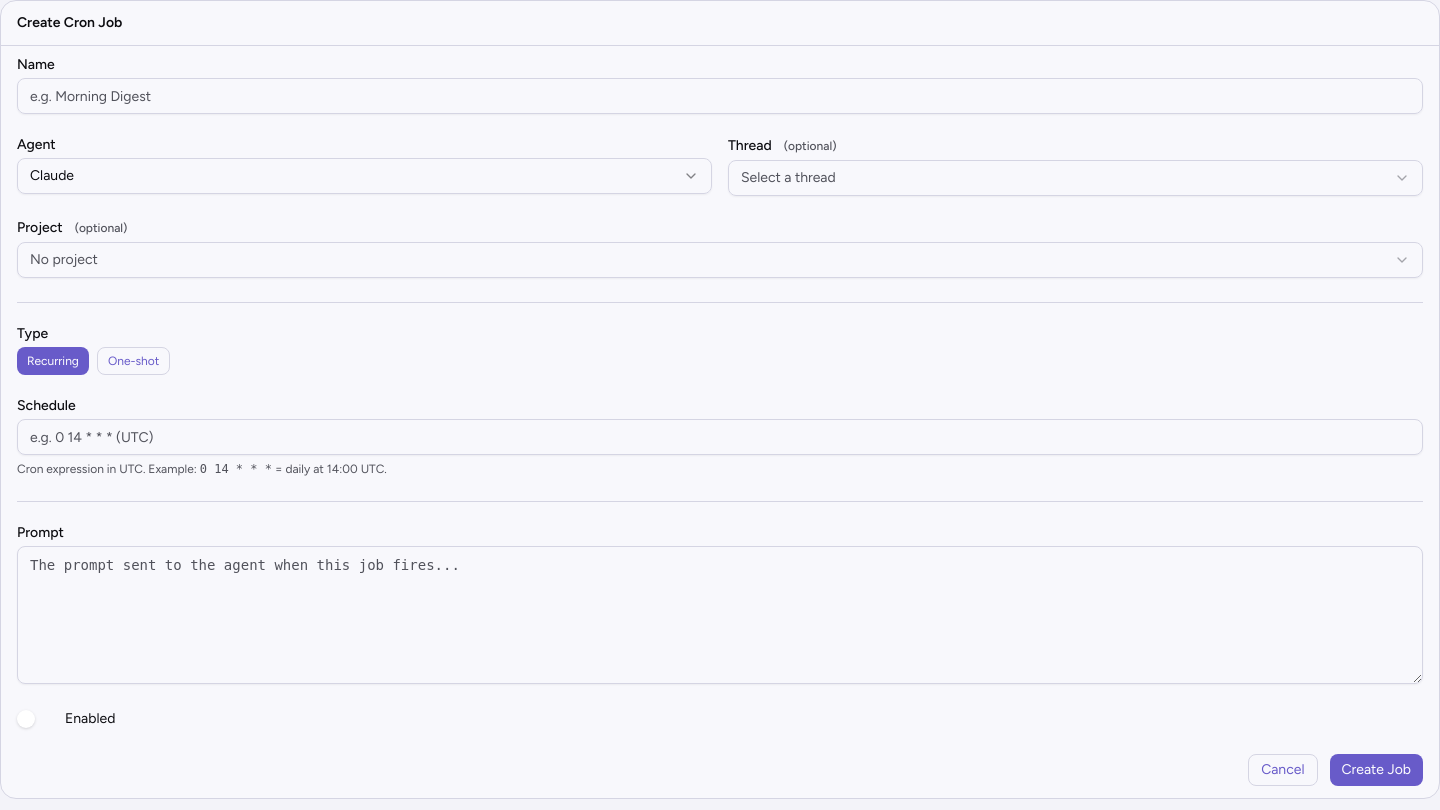
Test case: CronJobForm › shows error when createCronJob returns error
Type "Dup" into the field labelled "Name".
click(720, 96); type("Dup")  # box [17, 78, 1423, 114]
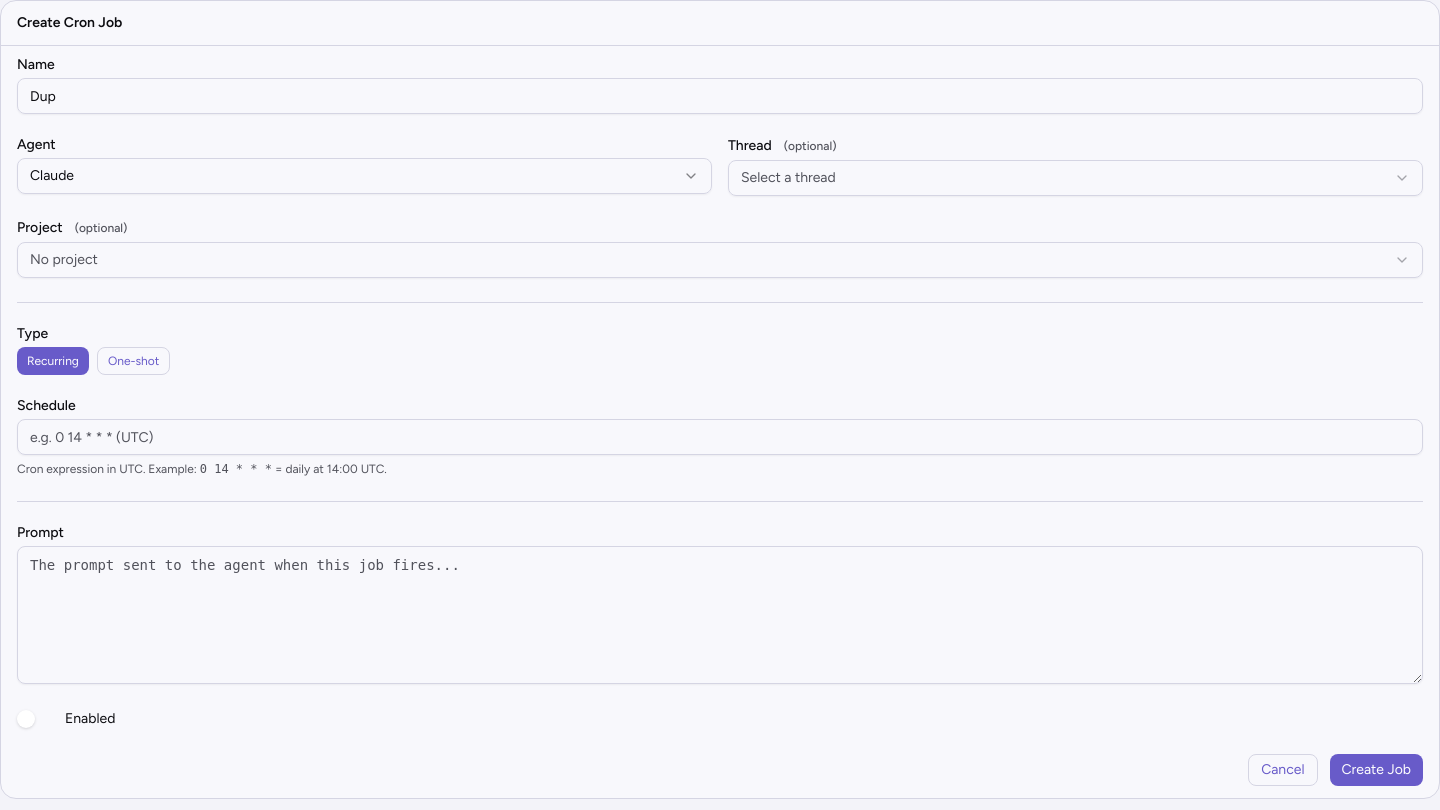
Type "0 9 * * *" into the field labelled "Schedule".
click(720, 437); type("0 9 * * *")  # box [17, 419, 1423, 455]
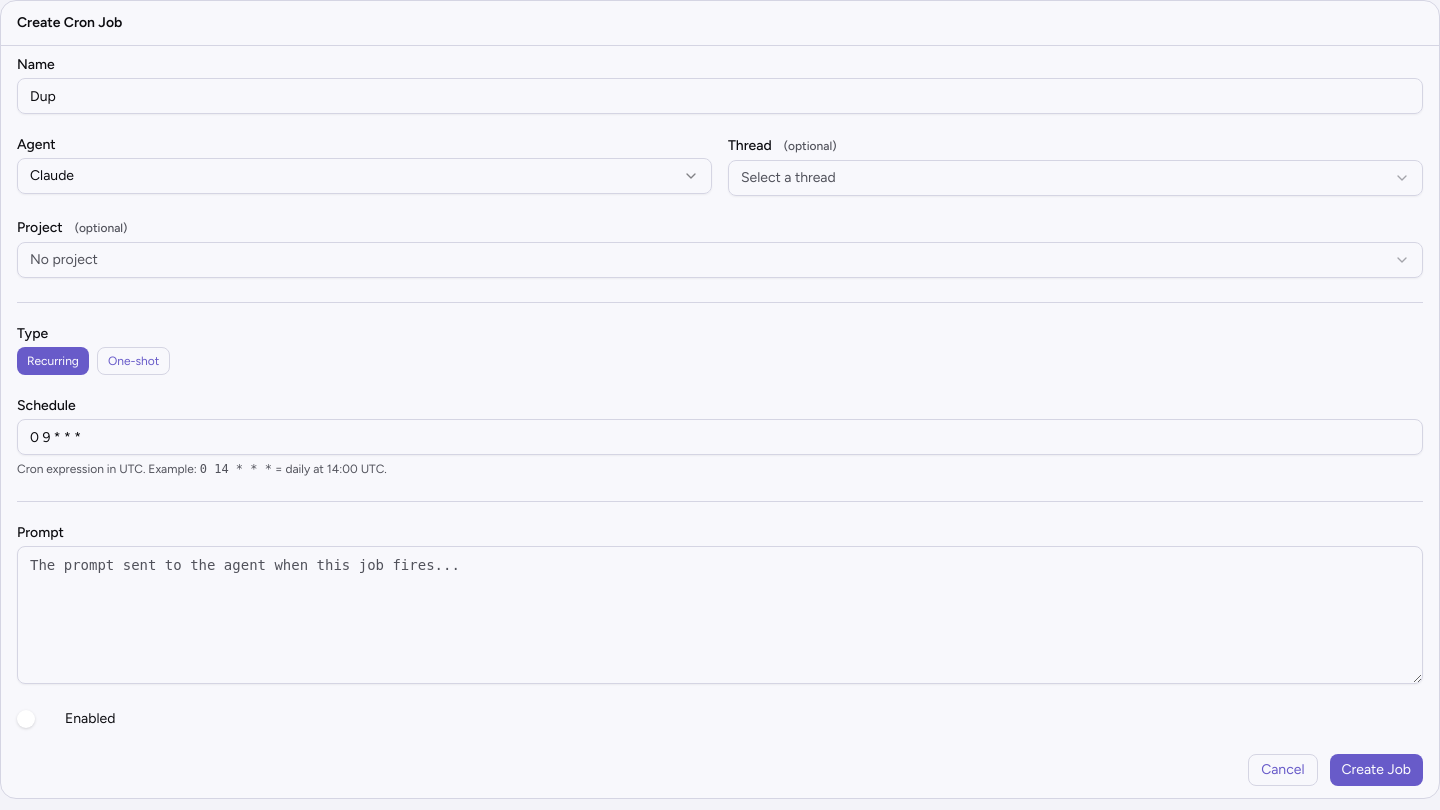
Type "x" into the text box labelled "Prompt".
click(720, 615); type("x")  # box [17, 546, 1423, 684]
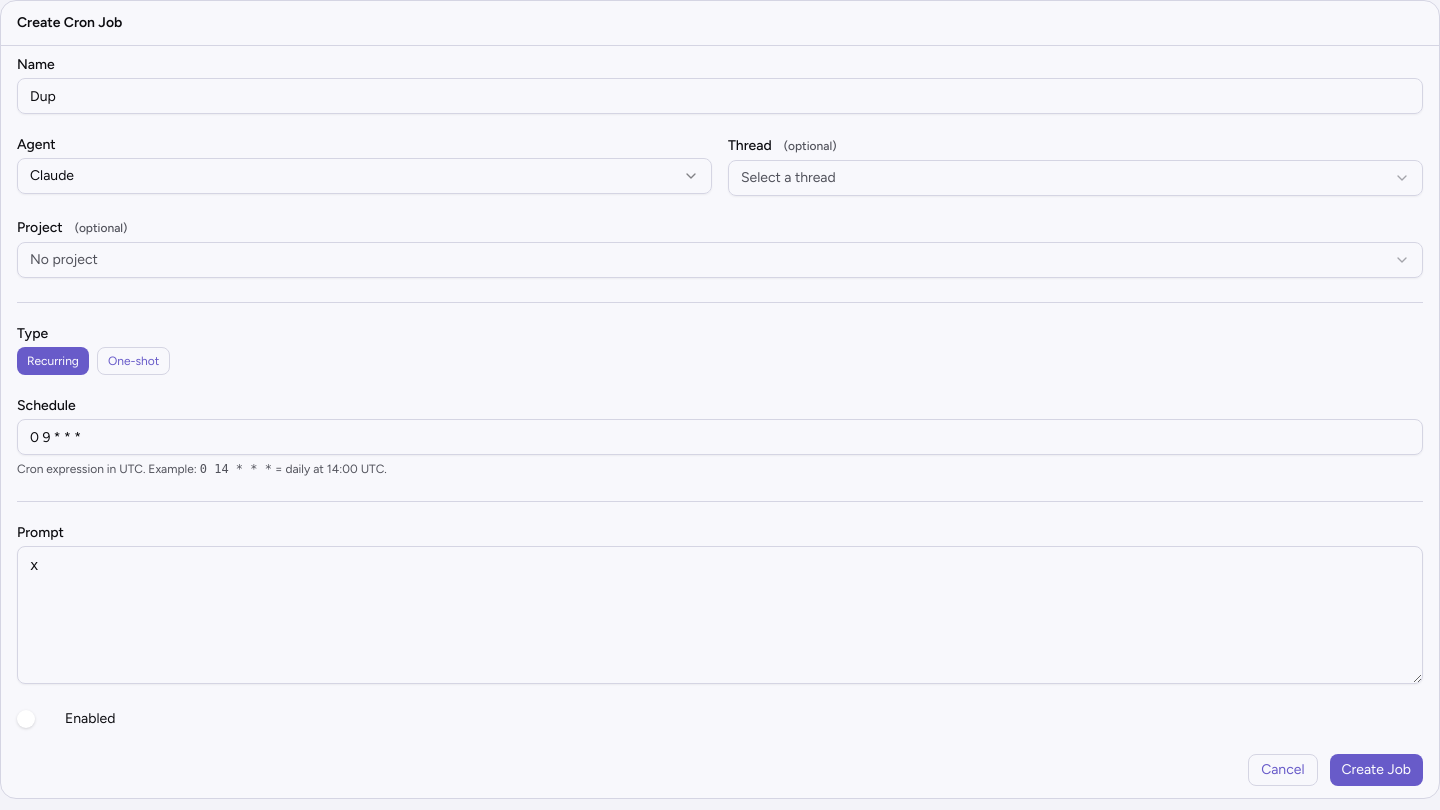
Submit the form
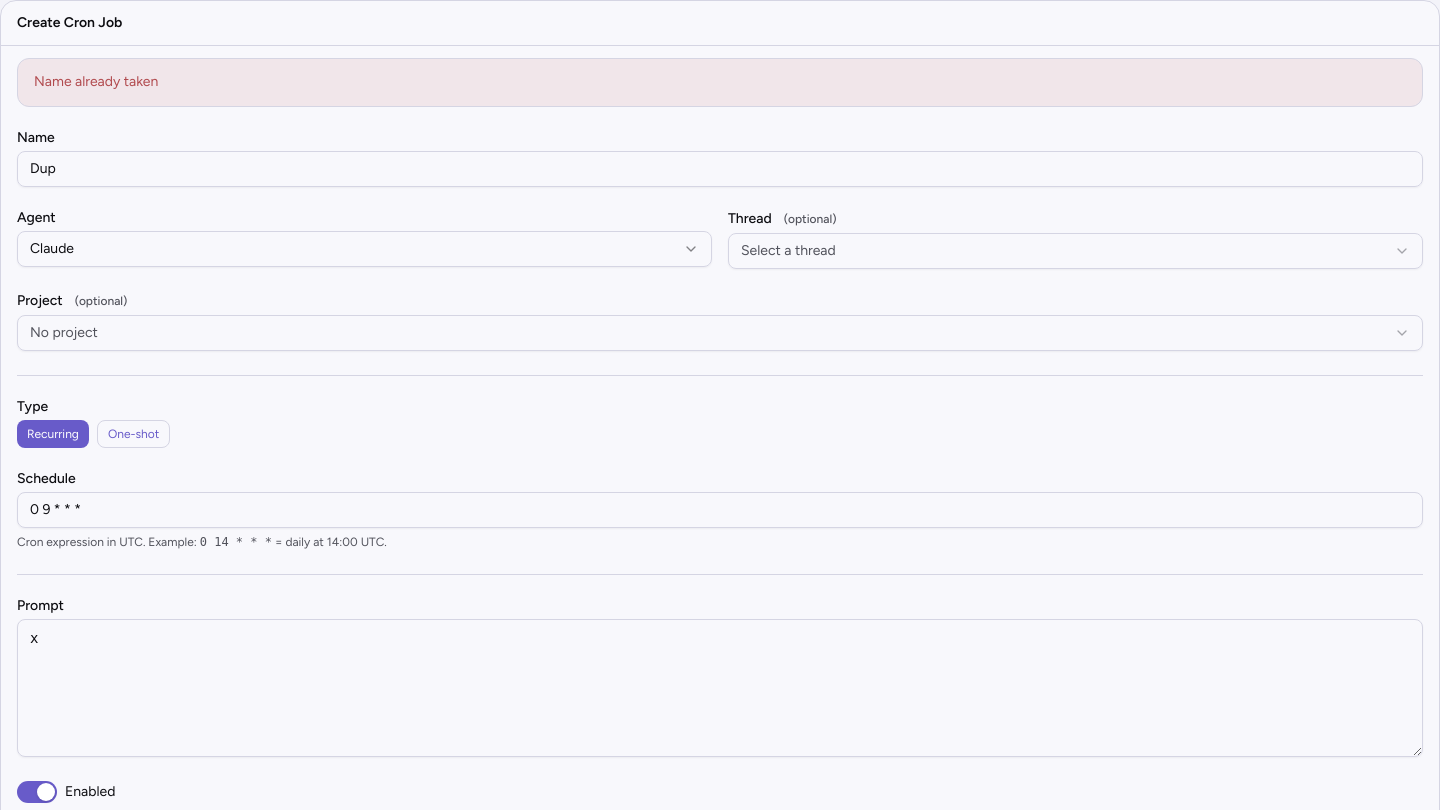
Result: the text "Name already taken" is shown at [34, 73, 158, 90]
